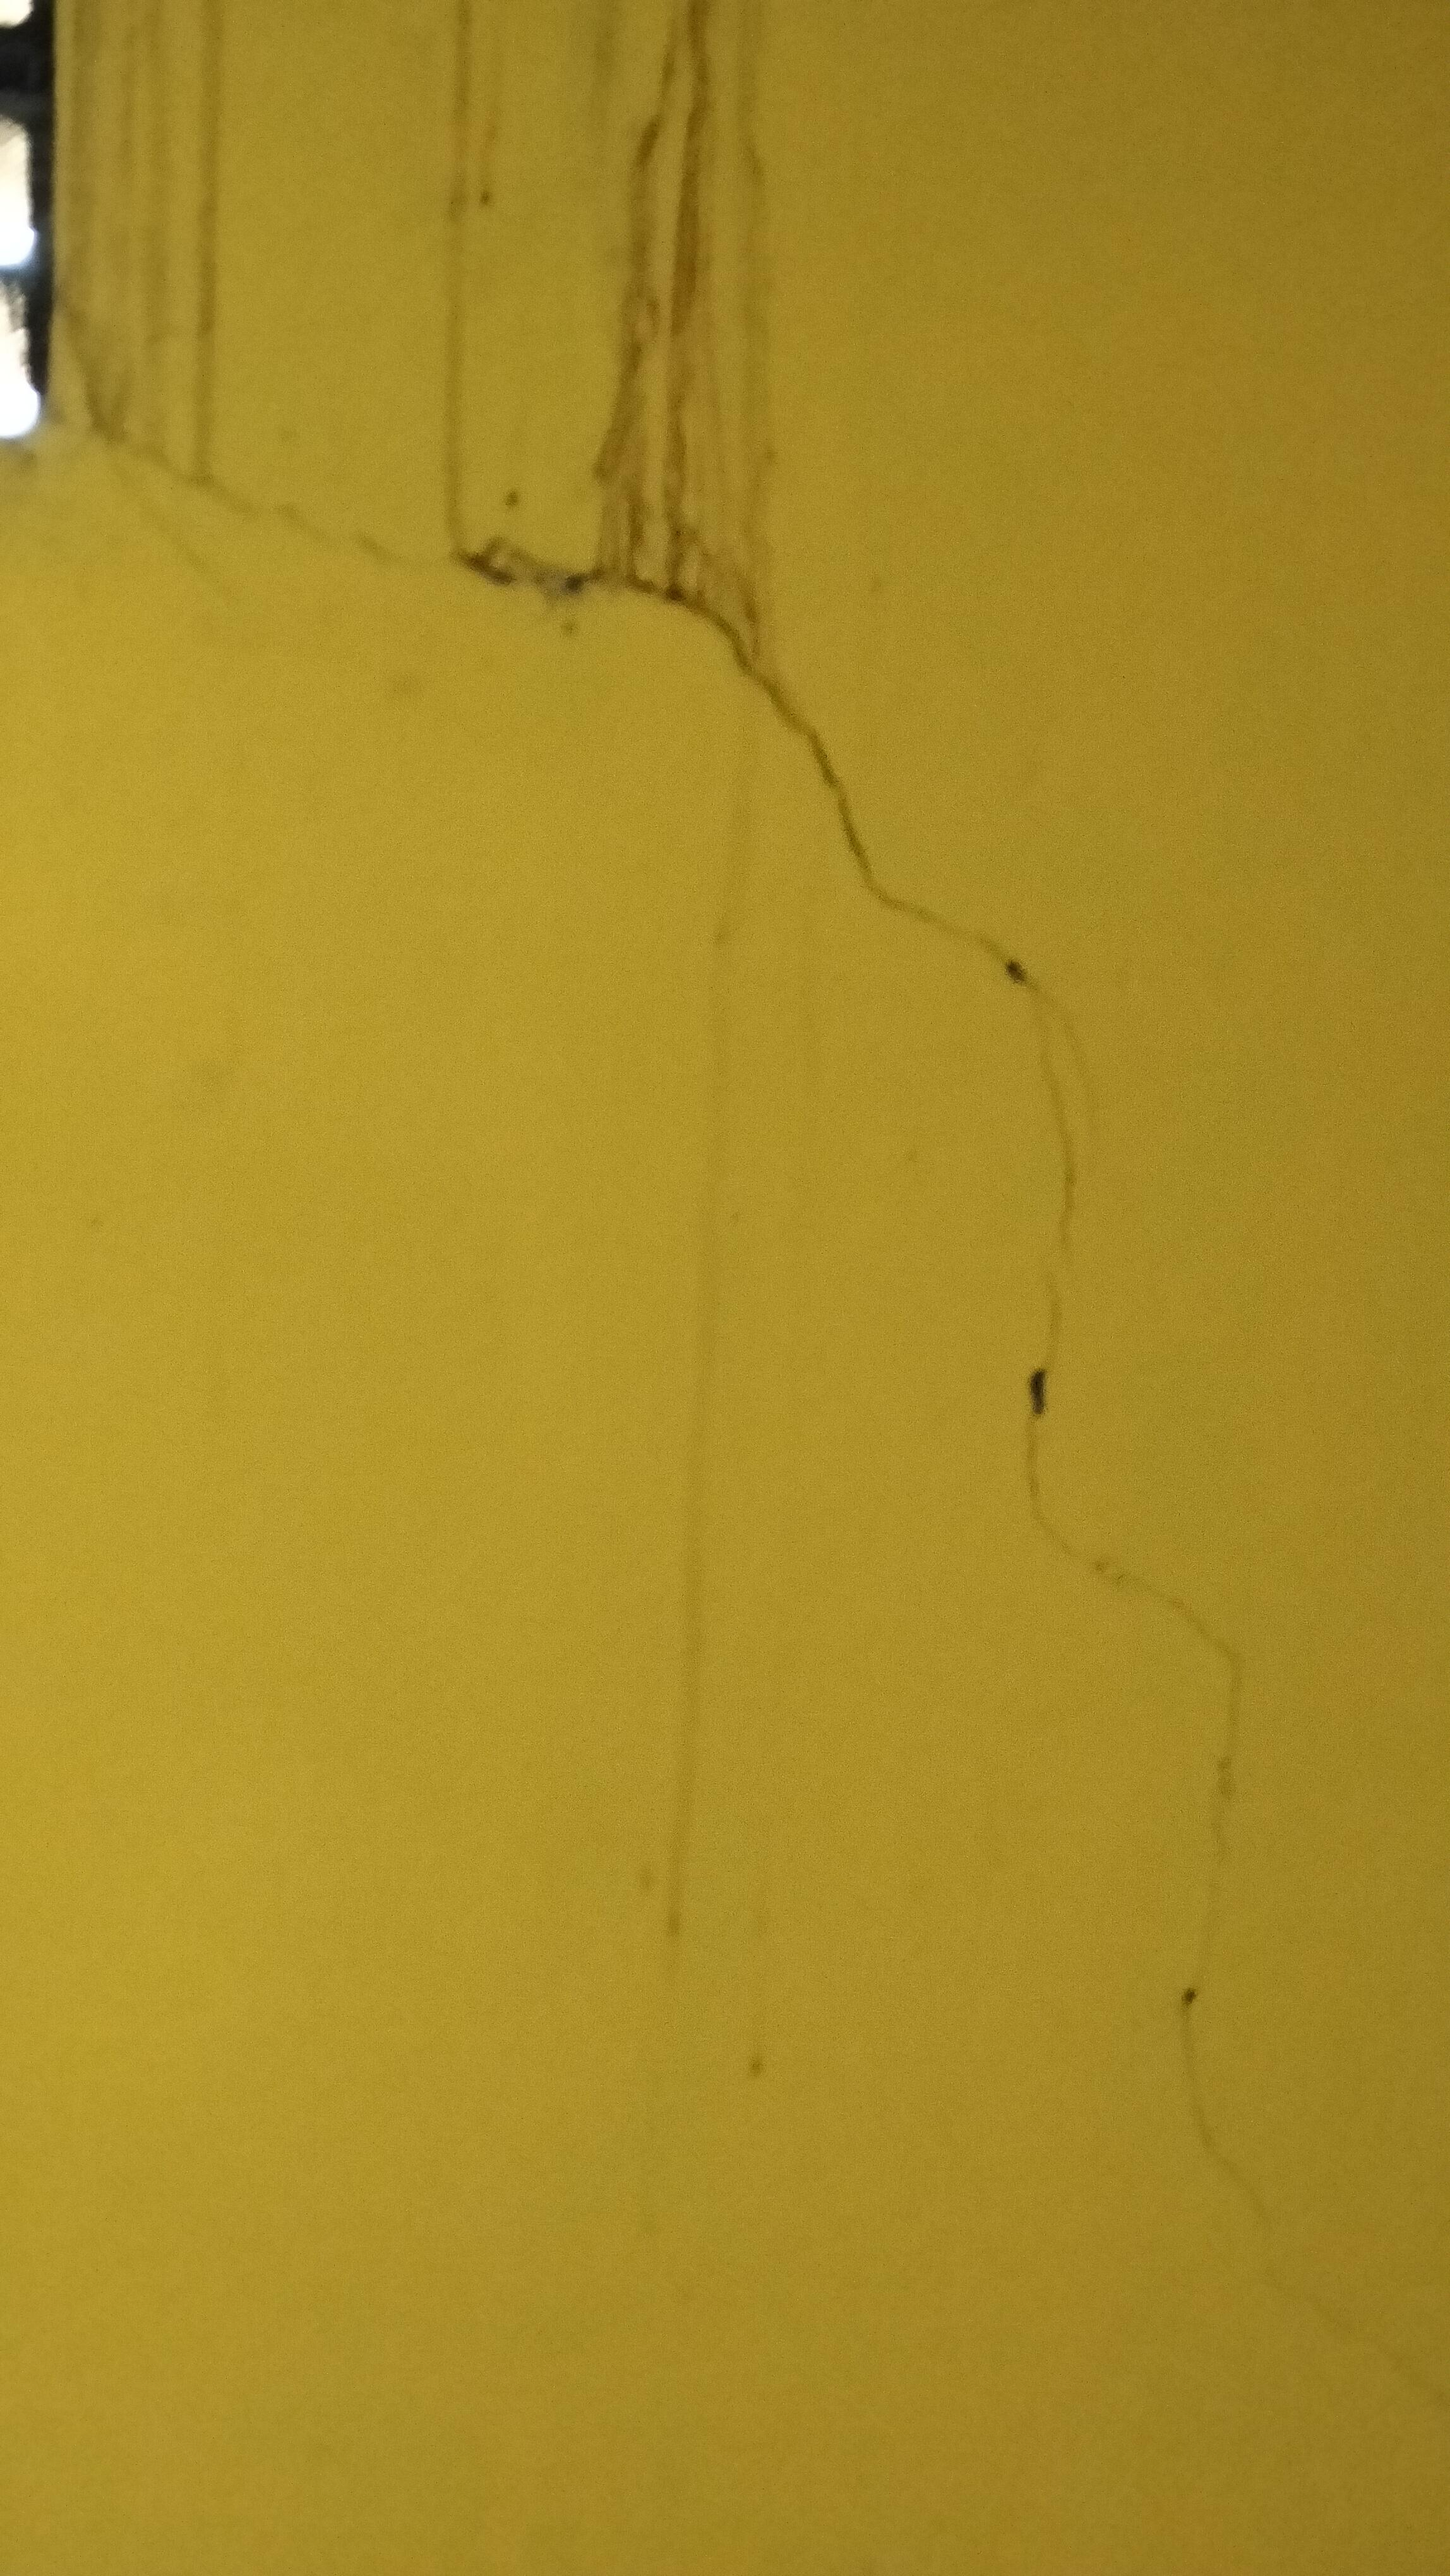Crack: (44, 375, 882, 890), (1025, 1493, 1333, 2249), (837, 890, 1119, 1591)
